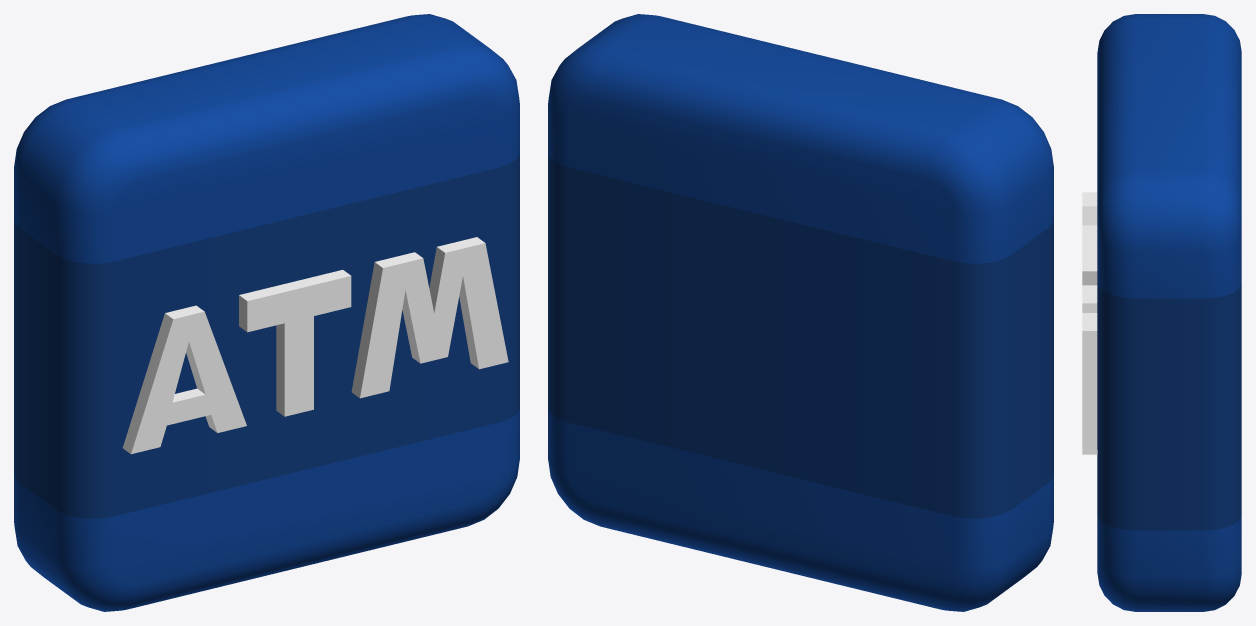
The model's file is atm_sign.glb.
3 views of the same model, side by side, from view 1: azimuth 30°, elevation 25°; view 2: azimuth 150°, elevation 25°; view 3: azimuth 270°, elevation 25° (orthographic). The views are drawn at different scales.
Parts seen in each view (by area): view 1: Cube.040; view 2: Cube.040; view 3: Cube.040.
Boxes of the visible parts, bbox=[...] form: Cube.040: bbox=[14, 14, 519, 611]; Cube.040: bbox=[548, 14, 1053, 611]; Cube.040: bbox=[1082, 14, 1241, 611].
Size of the model in its own units: 2.2 by 2.2 by 0.7298.
Materials: 1 (1 with a texture image).
